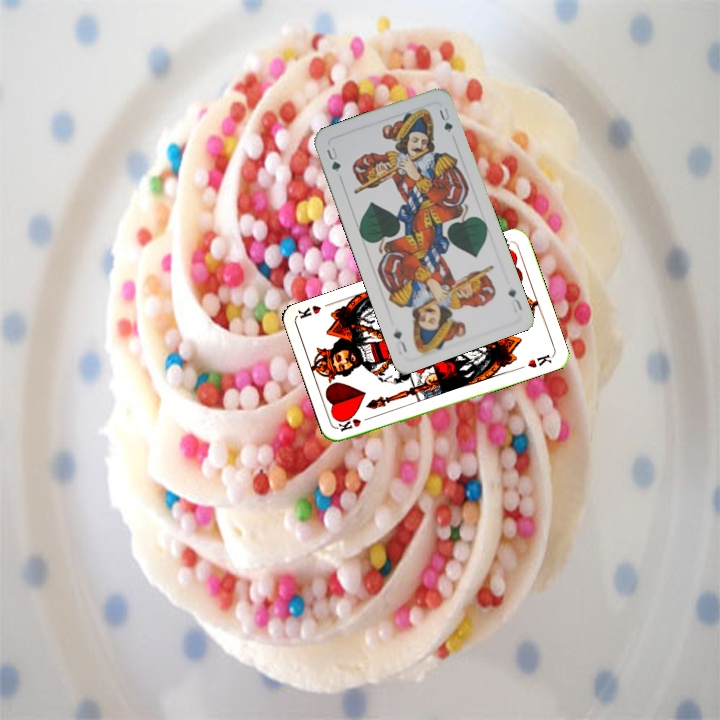GU: (322, 142, 343, 175), (504, 285, 525, 313)
HK: (334, 412, 375, 434)
